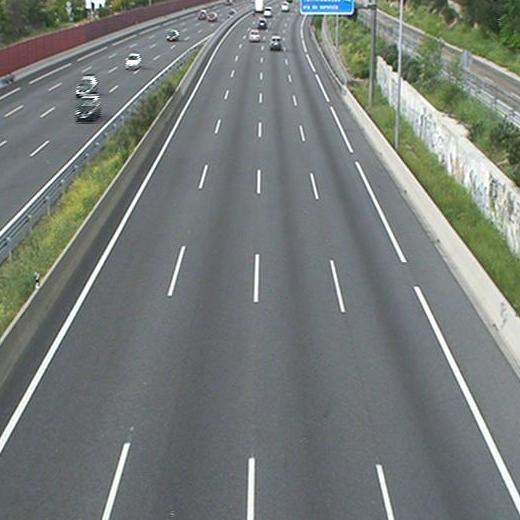car: (249, 29, 260, 42), (271, 36, 282, 48), (258, 17, 268, 28), (280, 1, 290, 11), (263, 8, 272, 17)
van: (253, 1, 263, 11)
